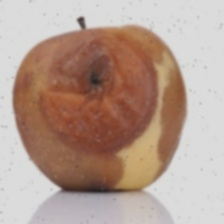apple: (40, 42, 221, 191)
